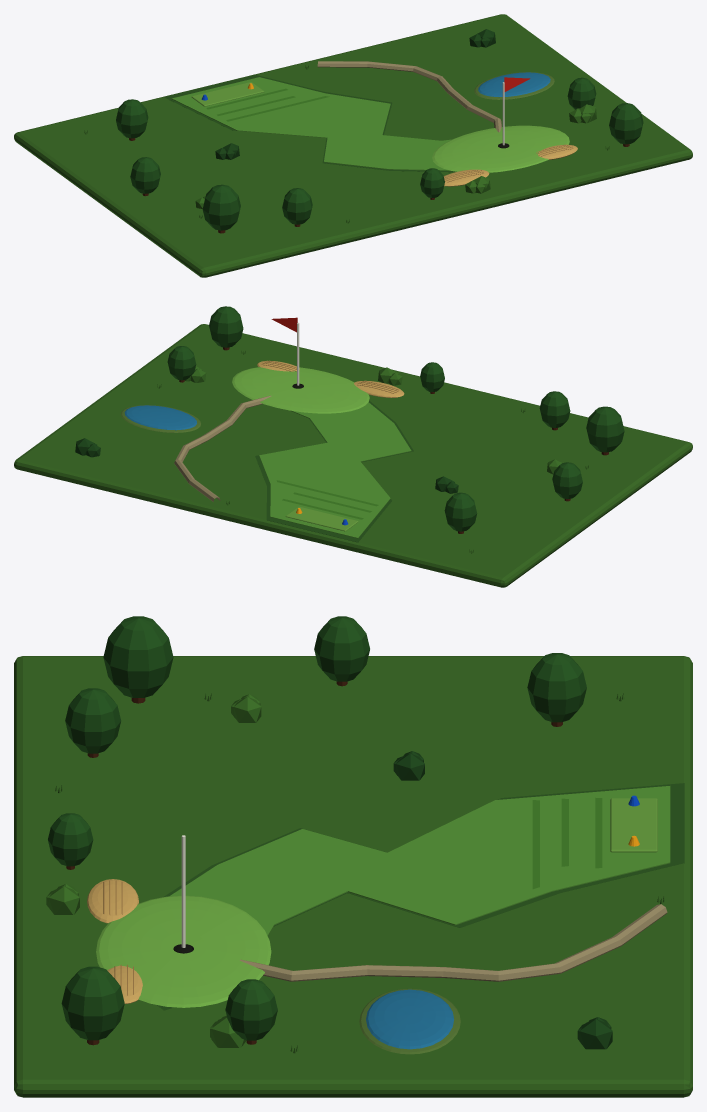
Rendered from PrimerNivel.obj.
3 renders of one model, top to bottom at view 1: azimuth 30°, elevation 25°; view 2: azimuth 150°, elevation 25°; view 3: azimuth 270°, elevation 25°, orthographic. The views are drawn at different scales.
Visible parts, largest first — view 1: Terreno_de_la_cancha, Fairway, Green_de_putting, Sendero_curvo, Copa_00, Borde_de_rough, Estanque, Copa_03, Copa_01, Copa_02, Copa_05, Plataforma_de_salida (+5 smaller); view 2: Terreno_de_la_cancha, Fairway, Green_de_putting, Copa_00, Estanque, Sendero_curvo, Borde_de_rough, Copa_03, Copa_01, Copa_02, Copa_05, Plataforma_de_salida (+4 smaller); view 3: Terreno_de_la_cancha, Fairway, Green_de_putting, Sendero_curvo, Copa_00, Estanque, Copa_03, Borde_de_rough, Copa_01, Copa_02, Copa_05, Plataforma_de_salida (+7 smaller).
Boxes of the visible parts, x1,y1,x2,y2 form: Terreno_de_la_cancha: (14,14,692,277); Fairway: (171,77,451,170); Green_de_putting: (432,125,569,172); Sendero_curvo: (317,61,501,132); Copa_00: (202,184,240,230); Borde_de_rough: (164,74,456,172); Estanque: (478,72,550,97); Copa_03: (609,103,643,144); Copa_01: (116,99,148,138); Copa_02: (282,188,312,224); Copa_05: (130,157,160,193); Plataforma_de_salida: (191,82,264,106); Terreno_de_la_cancha: (14,324,692,587); Fairway: (259,402,411,538); Green_de_putting: (232,367,369,413); Copa_00: (586,406,624,452); Estanque: (124,405,196,430); Sendero_curvo: (174,395,271,501); Borde_de_rough: (255,400,413,542); Copa_03: (209,306,243,347); Copa_01: (444,492,477,531); Copa_02: (539,391,570,427); Copa_05: (552,462,582,498); Plataforma_de_salida: (285,506,358,531); Terreno_de_la_cancha: (14,656,692,1097); Fairway: (170,786,670,935); Green_de_putting: (96,895,271,1007); Sendero_curvo: (240,904,667,981); Copa_00: (103,616,173,697); Estanque: (366,989,453,1049); Copa_03: (61,966,124,1040); Borde_de_rough: (157,783,684,1010); Copa_01: (527,653,586,722); Copa_02: (65,688,121,753); Copa_05: (314,616,369,681); Plataforma_de_salida: (610,798,657,852).
Size of the model in its own units: 6.75 by 1.09 by 4.5.
